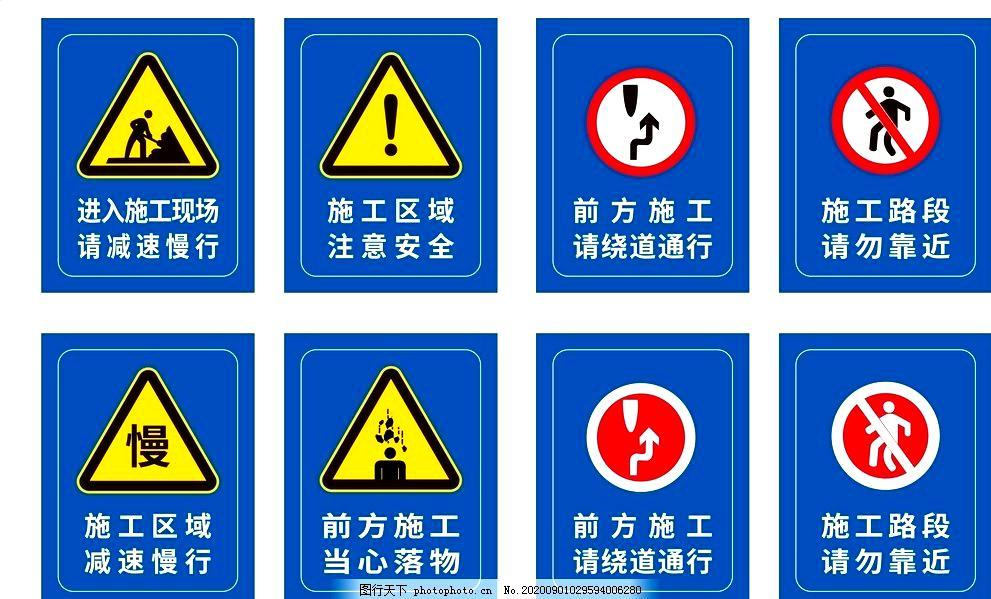sign: (541, 340, 740, 595), (48, 29, 246, 281), (789, 27, 983, 283), (787, 341, 981, 594), (295, 27, 487, 280), (293, 344, 486, 595), (51, 341, 240, 597), (548, 27, 738, 280)
